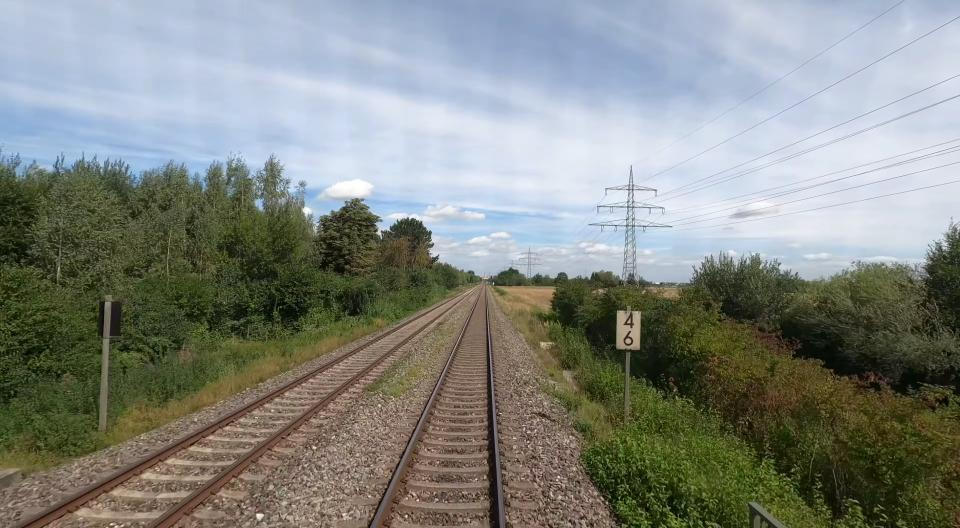Plant: (364, 352, 424, 398)
